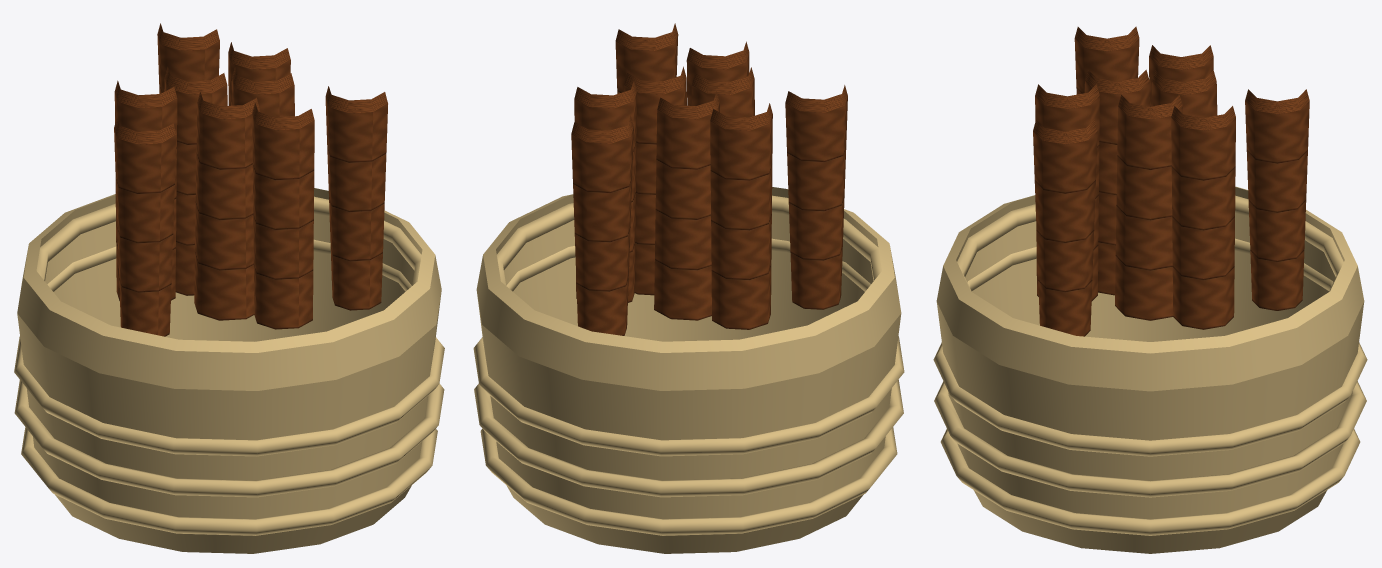
The model's file is witch-cottage-and-apothecary-log-basket-fb1e3f3d__32463.glb.
The picture shows the model from 3 angles, left to right: view 1: azimuth 30°, elevation 25°; view 2: azimuth 150°, elevation 25°; view 3: azimuth 270°, elevation 25°; orthographic projection.
Visible parts, largest first — view 1: log-basket; view 2: log-basket; view 3: log-basket.
Part boxes in pixels (<box>): log-basket: <box>14,23,444,553</box>; log-basket: <box>473,23,904,553</box>; log-basket: <box>933,26,1367,553</box>.
Size of the model in its own units: 0.6698 by 0.68 by 0.6698.
2 materials, 1 textured.
